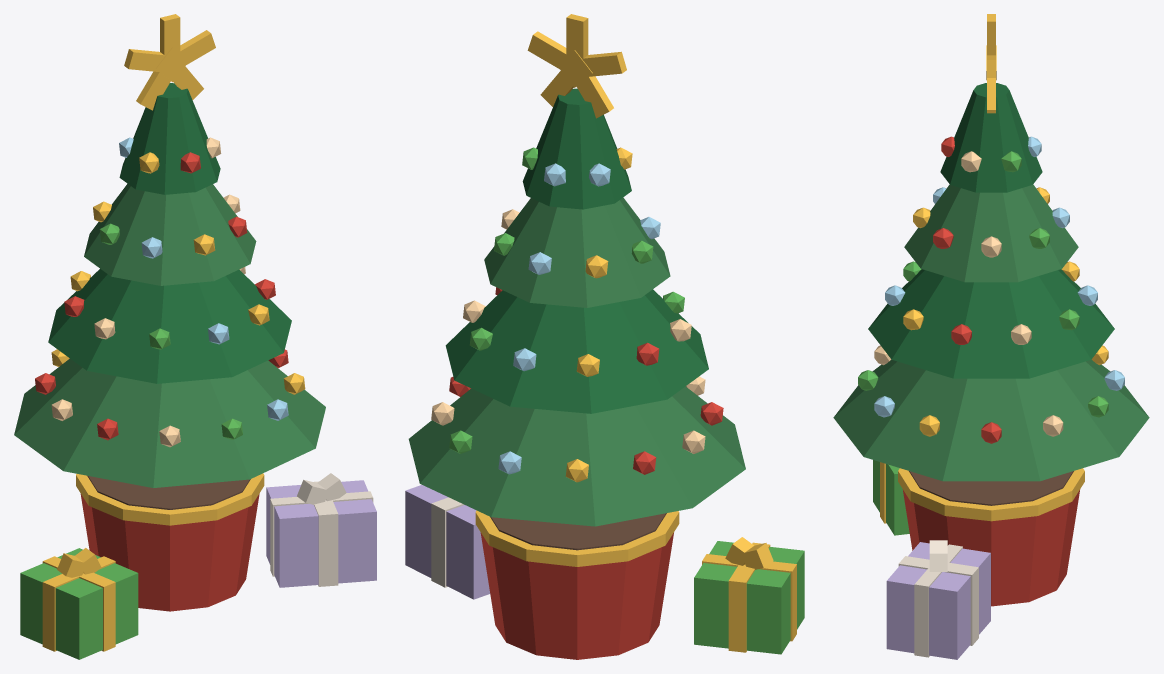
The model's file is CatCafe_Decor_LittleLitTree.glb.
The picture shows the model from 3 angles, left to right: view 1: azimuth 30°, elevation 25°; view 2: azimuth 150°, elevation 25°; view 3: azimuth 270°, elevation 25°; orthographic projection. The views are drawn at different scales.
Parts seen in each view (by area): view 1: CatCafe_Decor_LittleLitTree, CatCafe_Decor_LittleLitTree_Glow; view 2: CatCafe_Decor_LittleLitTree, CatCafe_Decor_LittleLitTree_Glow; view 3: CatCafe_Decor_LittleLitTree, CatCafe_Decor_LittleLitTree_Glow.
Part boxes in pixels (x1=…): CatCafe_Decor_LittleLitTree: x1=14, y1=83, x2=376, y2=659; CatCafe_Decor_LittleLitTree_Glow: x1=35, y1=14, x2=305, y2=447; CatCafe_Decor_LittleLitTree: x1=405, y1=88, x2=804, y2=659; CatCafe_Decor_LittleLitTree_Glow: x1=431, y1=14, x2=723, y2=482; CatCafe_Decor_LittleLitTree: x1=833, y1=83, x2=1149, y2=659; CatCafe_Decor_LittleLitTree_Glow: x1=858, y1=14, x2=1124, y2=443.
Bounding box in the file's own units: 2.63 × 4.09 × 2.1.
Materials: 1 (1 with a texture image).
